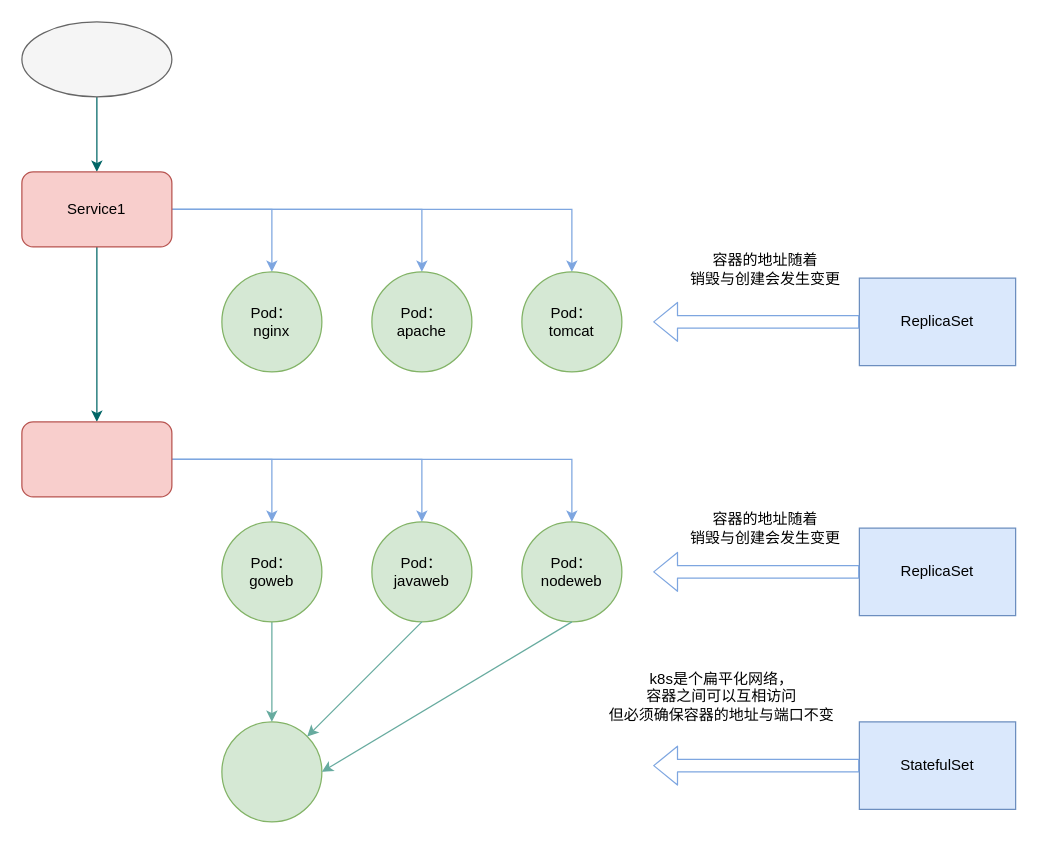
Image size: 1038x844. Some labels were removed from this diagram. Each missing label, with the centre of its shape:
client: (x=96, y=59)
Pod： Mysql: (x=271, y=771)
Service2: (x=96, y=459)
